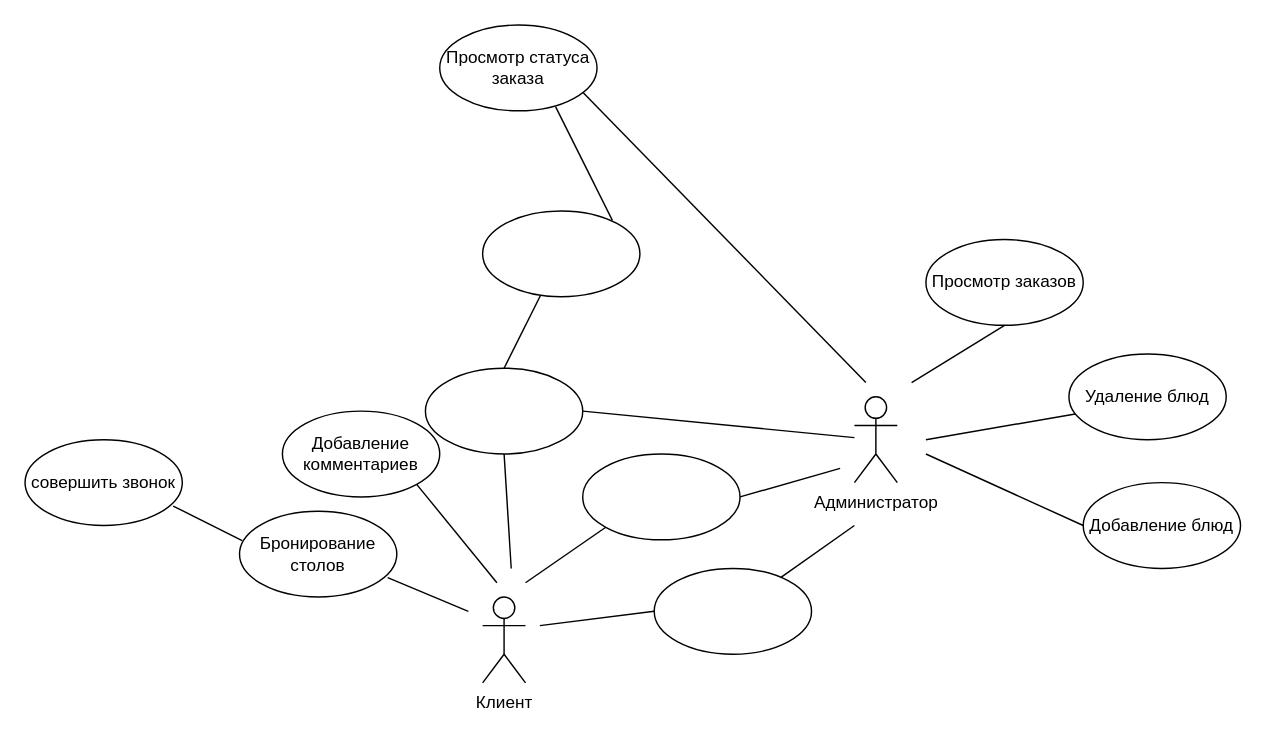
This 1266x738 diagram has some shape labels left out. The centre of each missing label's shape, as x and y in pixels:
"Авторизация" goes at [660,496].
"Просмотр меню" goes at [503,410].
"Смена языка приложения" goes at [732,610].
"Совершение заказа" goes at [560,253].
